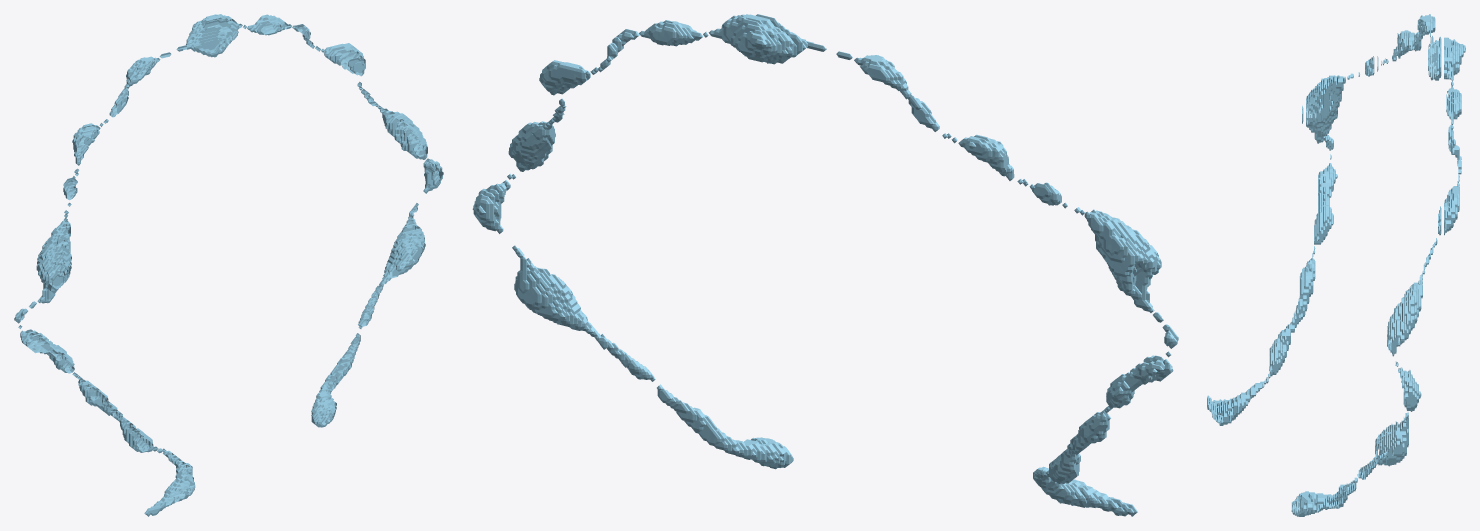
The model's file is SVV_AWCL.gltf.
3 views of the same model, side by side, from view 1: azimuth 30°, elevation 25°; view 2: azimuth 150°, elevation 25°; view 3: azimuth 270°, elevation 25° (orthographic). The views are drawn at different scales.
Visible parts, largest first — view 1: AWCL; view 2: AWCL; view 3: AWCL.
Part boxes in pixels (left/top/right/bottom): AWCL: left=14, top=14, right=443, bottom=516; AWCL: left=472, top=14, right=1178, bottom=516; AWCL: left=1207, top=14, right=1465, bottom=516.
Size of the model in its own units: 119871 by 95803 by 48897.
